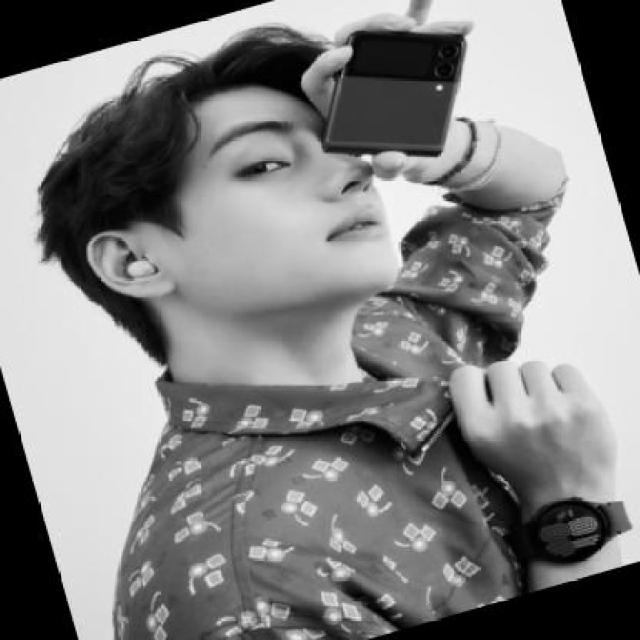earphone: (111, 217, 164, 296)
smart phone: (304, 8, 491, 175)
watch: (489, 465, 640, 571)
